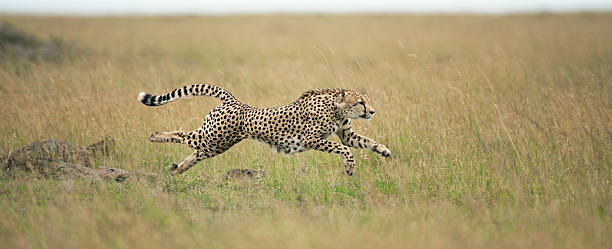cheetah: (327, 78, 384, 130)
